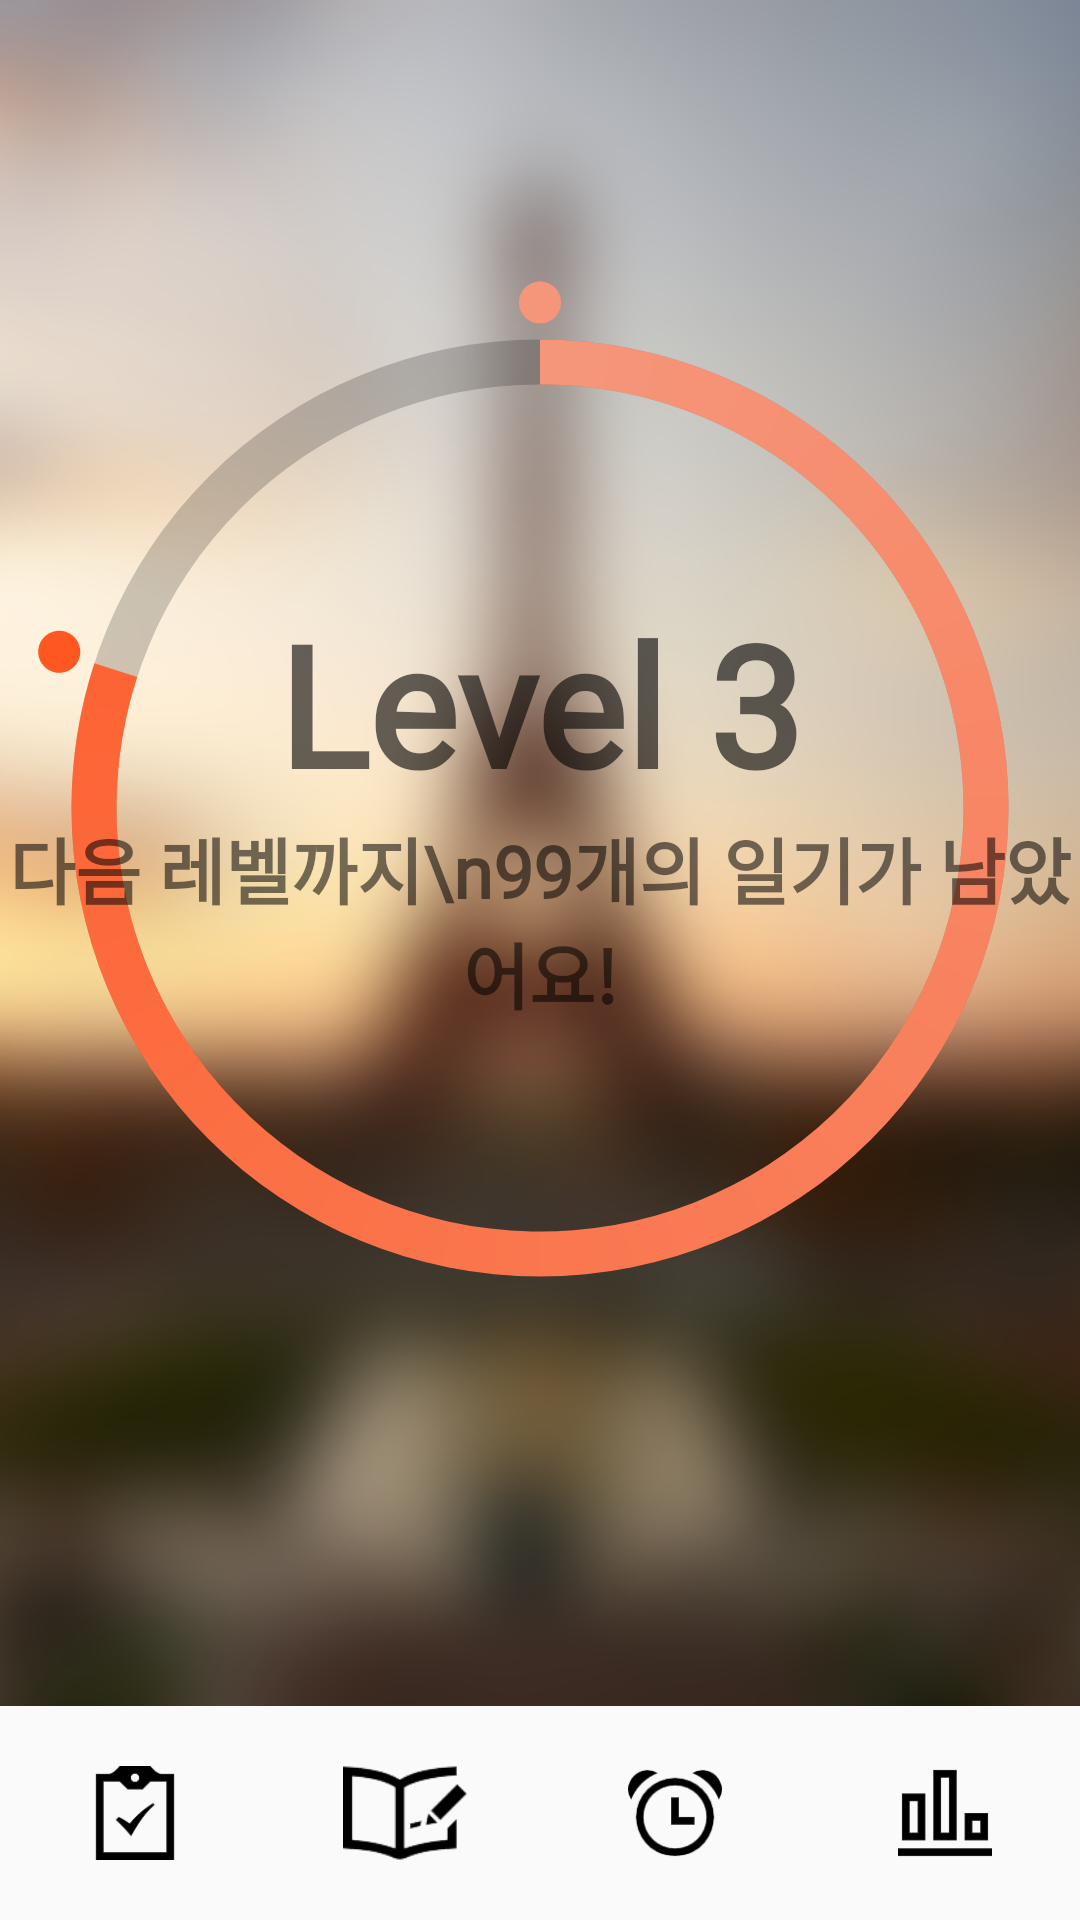

Where to tap for icons on this 1080x1920 app screen, as [x,y]:
alarm: [675,1813]
goal: [135,1813]
statics: [945,1813]
